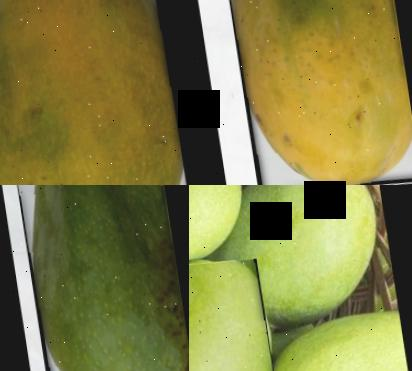PartiallyRipe: (212, 0, 412, 185), (0, 0, 189, 185)
Unripe: (4, 185, 189, 371), (189, 249, 284, 371)
